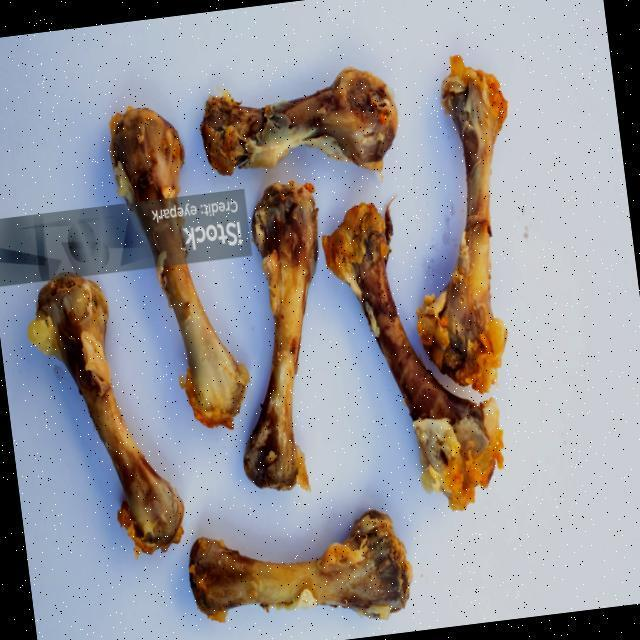Wet Waste: (196, 192, 350, 512), (13, 266, 175, 557), (332, 217, 480, 498), (110, 121, 242, 410), (410, 63, 527, 382), (173, 513, 414, 640), (180, 56, 400, 188)
